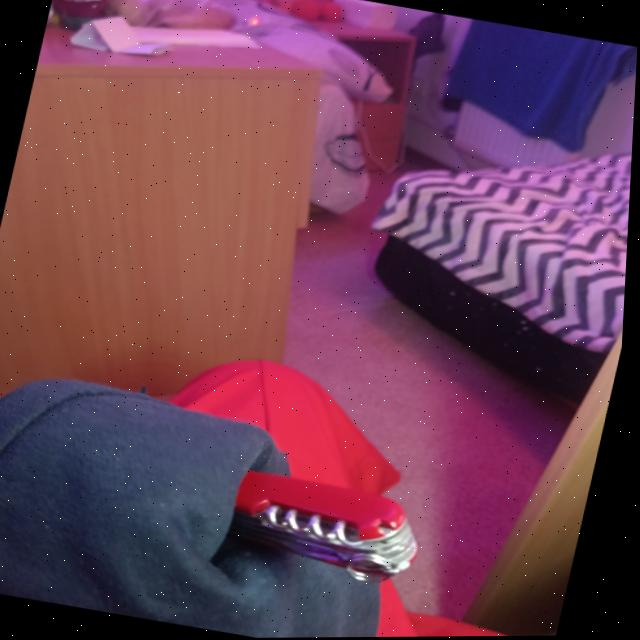knife victorinox: (236, 471, 422, 576)
